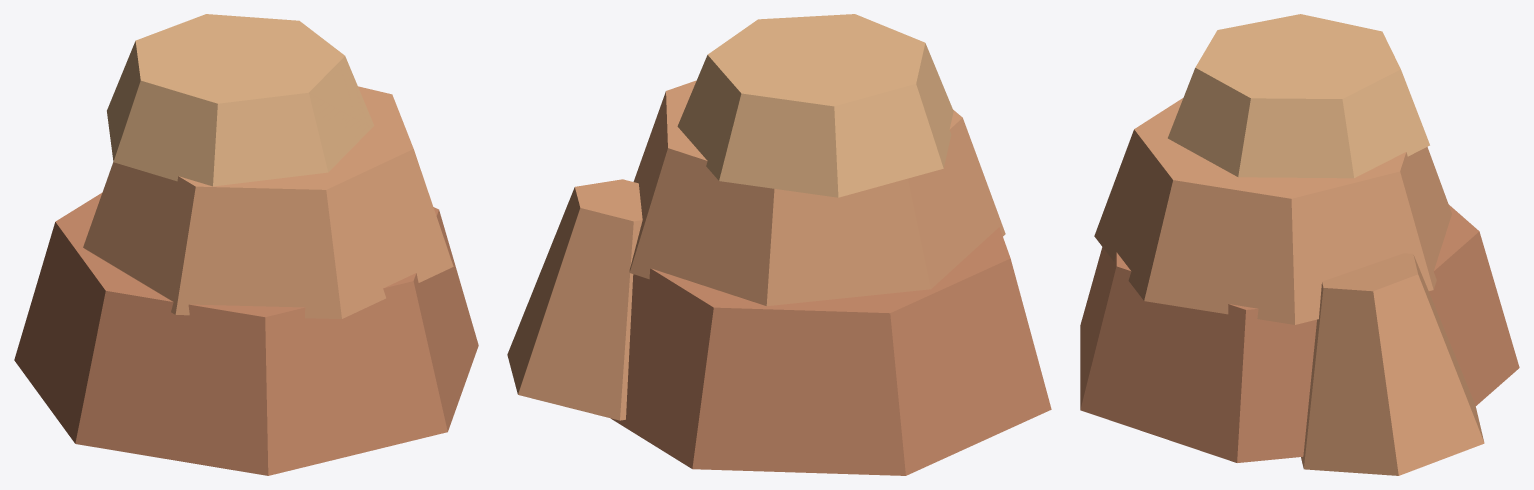
The model's file is desert_rock.glb.
3 renders of one model, left to right at view 1: azimuth 30°, elevation 25°; view 2: azimuth 150°, elevation 25°; view 3: azimuth 270°, elevation 25°, orthographic. The views are drawn at different scales.
Visible parts, largest first — view 1: MesaBase, MesaMid, MesaTop; view 2: MesaBase, MesaMid, MesaTop, SideSpire; view 3: MesaMid, MesaBase, MesaTop, SideSpire.
Part boxes in pixels (box(x1,y1,x2,y2)): MesaBase: box(14, 192, 478, 475); MesaMid: box(83, 86, 453, 318); MesaTop: box(107, 14, 374, 186); MesaBase: box(611, 227, 1051, 475); MesaMid: box(629, 80, 1005, 306); MesaTop: box(677, 14, 953, 197); SideSpire: box(507, 179, 642, 420); MesaMid: box(1094, 98, 1451, 324); MesaBase: box(1080, 204, 1519, 462); MesaTop: box(1168, 14, 1429, 178); SideSpire: box(1301, 253, 1484, 475).
Bounding box in the file's own units: 9.86 × 6.95 × 8.74.
